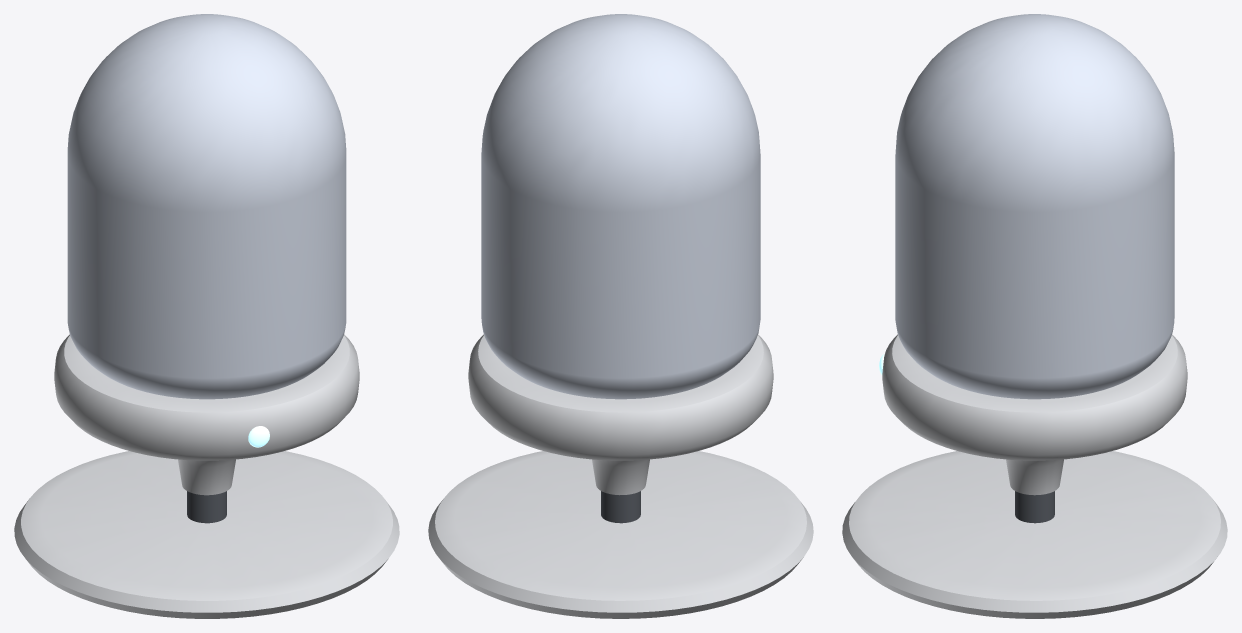
Rendered from log.glb.
The picture shows the model from 3 angles, left to right: view 1: azimuth 30°, elevation 25°; view 2: azimuth 150°, elevation 25°; view 3: azimuth 270°, elevation 25°; orthographic projection.
Visible parts, largest first — view 1: head, base, band, neck, stem; view 2: head, base, band, neck, stem; view 3: head, base, band, neck, stem.
Boxes of the visible parts, <box> form: head: <box>67,14,346,399</box>; base: <box>14,451,399,618</box>; band: <box>54,334,359,460</box>; neck: <box>178,459,235,495</box>; stem: <box>187,491,226,523</box>; head: <box>481,14,760,399</box>; base: <box>428,451,813,618</box>; band: <box>468,334,773,460</box>; neck: <box>592,459,649,495</box>; stem: <box>601,491,640,523</box>; head: <box>895,14,1174,399</box>; base: <box>842,451,1227,618</box>; band: <box>882,334,1187,460</box>; neck: <box>1006,459,1063,495</box>; stem: <box>1015,491,1054,523</box>.
Bounding box in the file's own units: 1.42 × 2.1 × 1.42.
